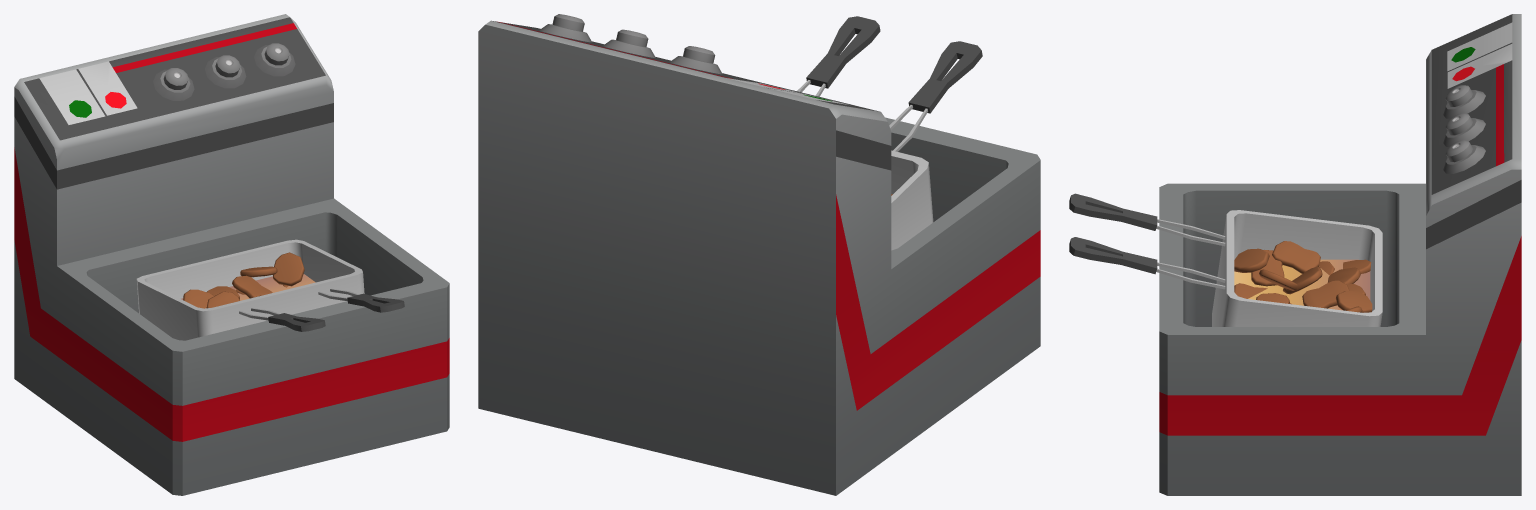
File: Station Nuggets.fbx
3 renders of one model, left to right at view 1: azimuth 30°, elevation 25°; view 2: azimuth 150°, elevation 25°; view 3: azimuth 270°, elevation 25°, orthographic. The views are drawn at different scales.
Visible parts, largest first — view 1: Station_Nuggets; view 2: Station_Nuggets; view 3: Station_Nuggets.
Part boxes in pixels (x1=…): Station_Nuggets: x1=14, y1=14, x2=449, y2=495; Station_Nuggets: x1=478, y1=14, x2=1040, y2=495; Station_Nuggets: x1=1069, y1=14, x2=1521, y2=495.
Bounding box in the file's own units: 170 × 175 × 216.
